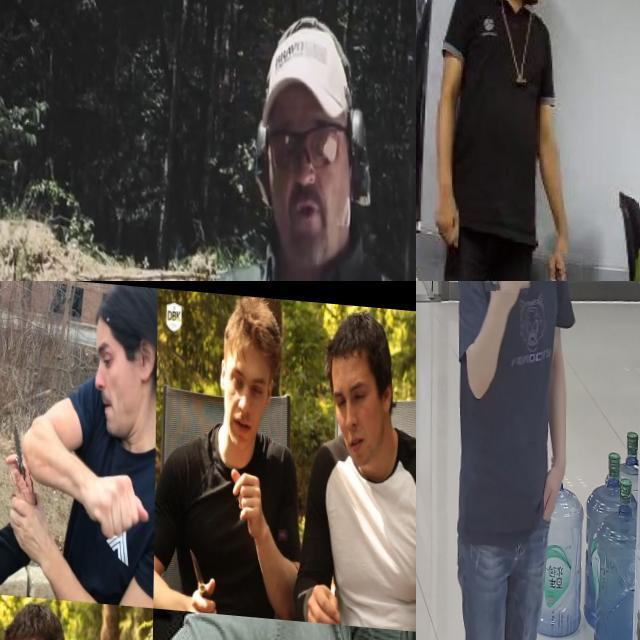-: (0, 410, 30, 492), (188, 537, 220, 606), (546, 244, 584, 281)
gun-knife-thesis - v11 Yolov5 augmented: (470, 281, 530, 347)
